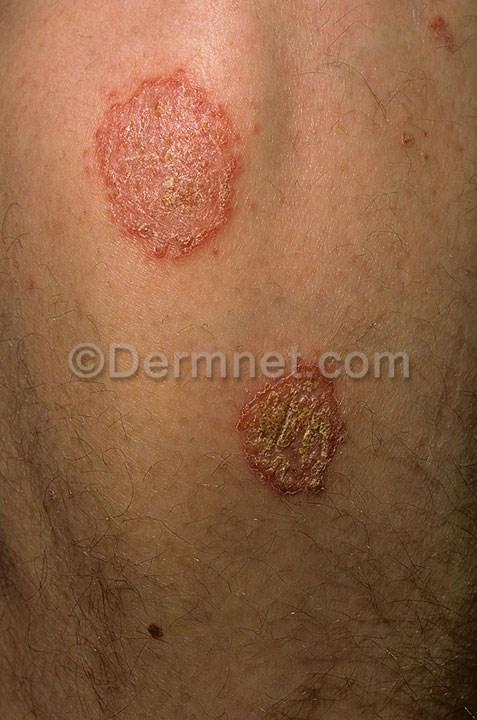Eczema: (107, 67, 254, 273), (211, 360, 358, 503)
